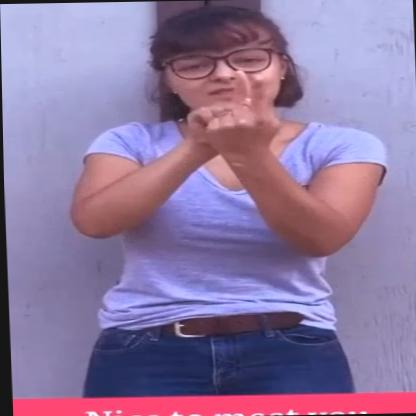NiceToMeetYou: (66, 0, 392, 387)
